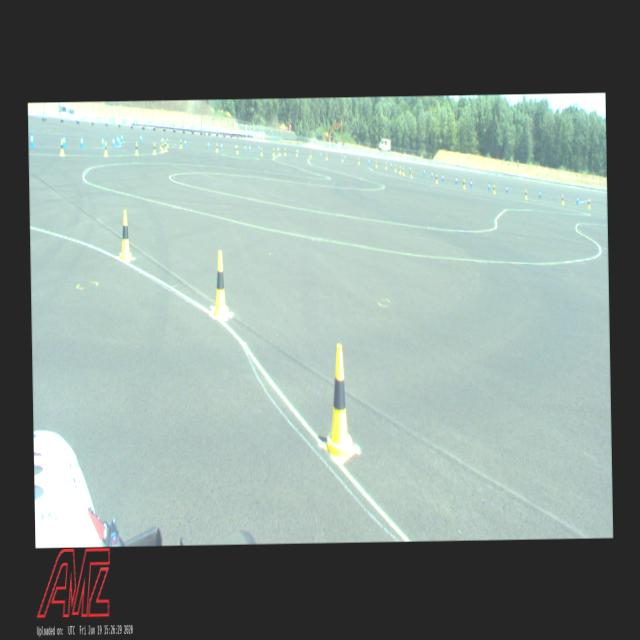blue_cone: (29, 132, 34, 148), (100, 134, 104, 148), (62, 134, 66, 146), (116, 133, 120, 144), (80, 134, 83, 148), (111, 134, 114, 147), (207, 140, 210, 149), (487, 182, 490, 190), (538, 188, 540, 198), (184, 138, 186, 148), (505, 184, 507, 194), (576, 194, 578, 204), (455, 175, 457, 185), (470, 178, 472, 188), (441, 172, 443, 182), (120, 132, 122, 142), (234, 142, 236, 152), (162, 134, 164, 144), (140, 132, 142, 141), (220, 141, 222, 150), (243, 144, 246, 150), (408, 165, 411, 171), (296, 147, 298, 156), (390, 161, 392, 169), (258, 144, 260, 152), (319, 151, 321, 159), (430, 170, 432, 178), (423, 168, 425, 175), (276, 145, 278, 152), (368, 158, 370, 164), (248, 144, 250, 150)
yellow_cone: (322, 344, 356, 462), (210, 250, 230, 318), (118, 210, 132, 260), (59, 140, 64, 154), (103, 140, 107, 156), (134, 141, 138, 154), (524, 188, 528, 199), (152, 142, 156, 153), (178, 138, 182, 148), (165, 140, 168, 152), (492, 183, 495, 194), (462, 178, 465, 189), (561, 194, 564, 204), (587, 198, 590, 208), (160, 142, 163, 152), (215, 142, 218, 151), (435, 172, 437, 183), (236, 144, 238, 155), (398, 165, 401, 172), (409, 170, 412, 177), (166, 138, 168, 148), (272, 148, 274, 157), (402, 166, 404, 175), (309, 149, 311, 158), (260, 147, 262, 156), (325, 152, 327, 161), (160, 138, 162, 147), (278, 147, 280, 156), (296, 148, 298, 157), (394, 163, 396, 172), (375, 160, 377, 168), (340, 154, 342, 162), (384, 162, 386, 169), (356, 158, 358, 165), (284, 148, 286, 155)
